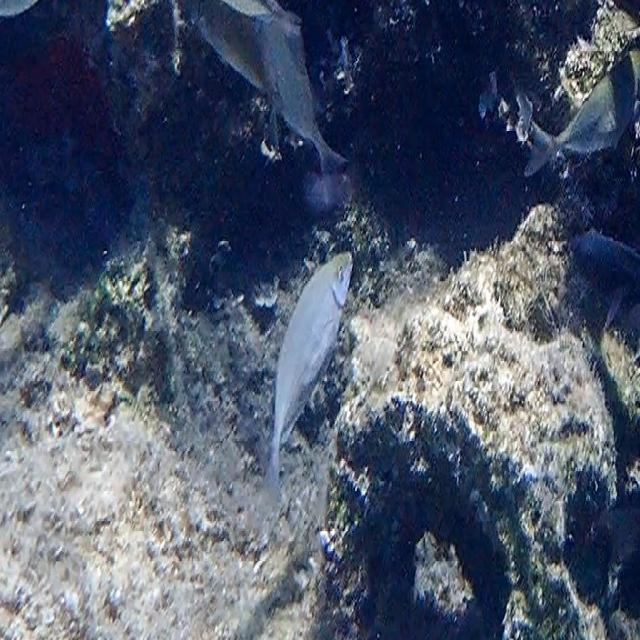Sokar Baligi: (247, 233, 364, 521)
